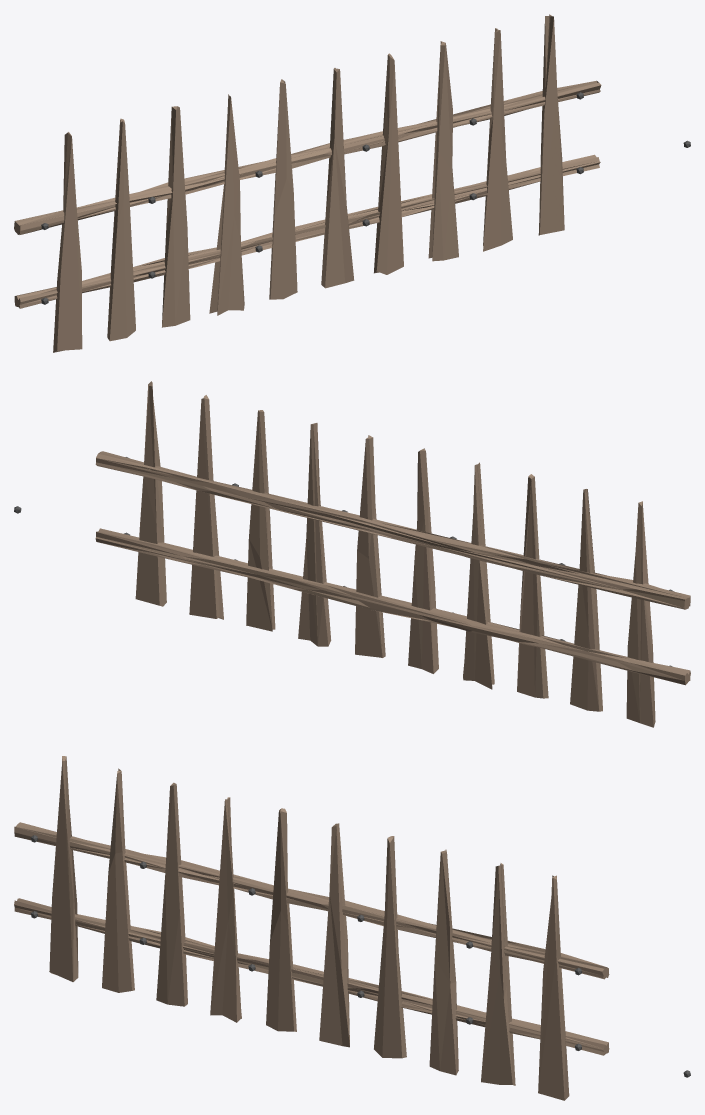
Rendered from woodfence.glb.
The picture shows the model from 3 angles, top to bottom: view 1: azimuth 30°, elevation 25°; view 2: azimuth 150°, elevation 25°; view 3: azimuth 330°, elevation 25°; orthographic projection.
Parts seen in each view (by area): view 1: Cube.011, Cube.010, Cube.002, Cube, Cube.003, Cube.007, Cube.006, Cube.005, Cube.004, Cube.009, Cube.001, Cube.008; view 2: Cube.011, Cube.010, Cube.008, Cube.005, Cube.002, Cube.001, Cube.009, Cube.007, Cube.004, Cube, Cube.003, Cube.006; view 3: Cube.011, Cube.010, Cube.008, Cube.005, Cube.007, Cube.002, Cube.001, Cube.009, Cube.004, Cube, Cube.003, Cube.006.
Boxes of the visible parts, x1=… form: Cube.011: x1=14, y1=80, x2=601, y2=234; Cube.010: x1=14, y1=154, x2=600, y2=308; Cube.002: x1=162, y1=106, x2=190, y2=327; Cube: x1=53, y1=132, x2=82, y2=352; Cube.003: x1=209, y1=94, x2=244, y2=315; Cube.007: x1=428, y1=41, x2=458, y2=261; Cube.006: x1=374, y1=53, x2=403, y2=274; Cube.005: x1=321, y1=68, x2=354, y2=288; Cube.004: x1=269, y1=79, x2=297, y2=299; Cube.009: x1=538, y1=14, x2=564, y2=235; Cube.001: x1=107, y1=118, x2=135, y2=341; Cube.008: x1=483, y1=28, x2=512, y2=251; Cube.011: x1=95, y1=451, x2=690, y2=609; Cube.010: x1=95, y1=528, x2=690, y2=685; Cube.008: x1=189, y1=395, x2=223, y2=619; Cube.005: x1=355, y1=435, x2=385, y2=657; Cube.002: x1=517, y1=474, x2=548, y2=698; Cube.001: x1=570, y1=489, x2=602, y2=711; Cube.009: x1=135, y1=381, x2=166, y2=606; Cube.007: x1=246, y1=410, x2=275, y2=631; Cube.004: x1=408, y1=448, x2=438, y2=673; Cube: x1=626, y1=501, x2=655, y2=727; Cube.003: x1=463, y1=462, x2=494, y2=689; Cube.006: x1=298, y1=423, x2=331, y2=646; Cube.011: x1=14, y1=822, x2=609, y2=979; Cube.010: x1=14, y1=898, x2=609, y2=1055; Cube.008: x1=481, y1=863, x2=515, y2=1085; Cube.005: x1=319, y1=823, x2=349, y2=1047; Cube.007: x1=429, y1=849, x2=458, y2=1075; Cube.002: x1=156, y1=782, x2=187, y2=1006; Cube.001: x1=102, y1=768, x2=134, y2=992; Cube.009: x1=538, y1=875, x2=569, y2=1100; Cube.004: x1=266, y1=808, x2=296, y2=1031; Cube: x1=49, y1=756, x2=78, y2=981; Cube.003: x1=210, y1=797, x2=241, y2=1022; Cube.006: x1=374, y1=836, x2=406, y2=1058.
Size of the model in its own units: 7.49 by 2.35 by 0.2091.
